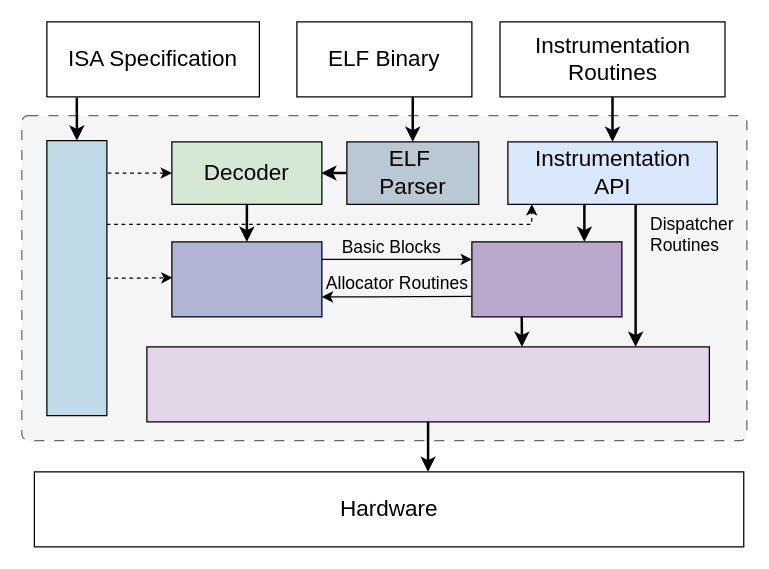
The diagram is 769 pixels wide and 569 high, and some of its shapes have lost their labels. Each missing label, with the box of its shape:
Basic Block Allocator: (171, 241, 322, 317)
Code Cache: (471, 241, 622, 317)
Code Synthesizer: (46, 139, 107, 416)
Dispatcher: (146, 346, 709, 422)
